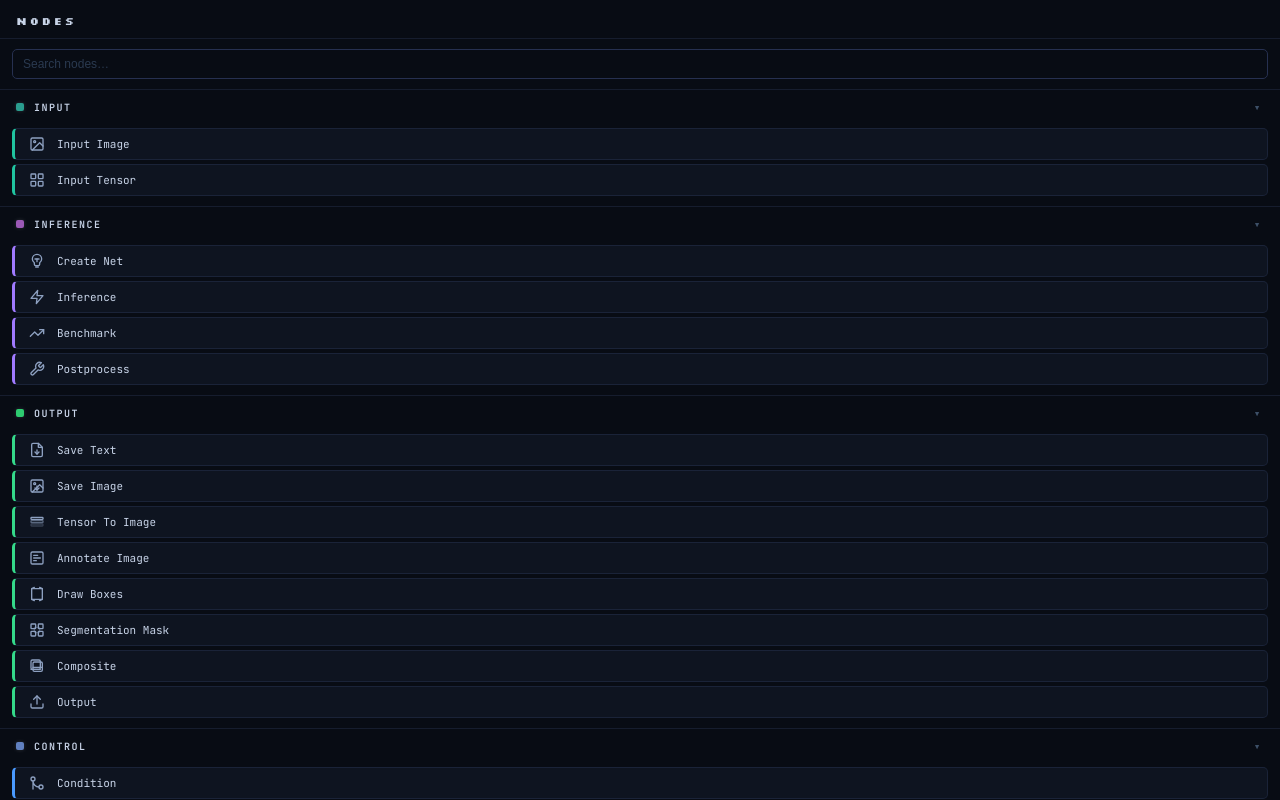
Test: NodePalette search › overrides collapsed categories while a search is active so hits are never hidden
The image size is (1280, 800).
Click the element showing "INPUT ▾" at (53, 107), box [16,100,1260,114]
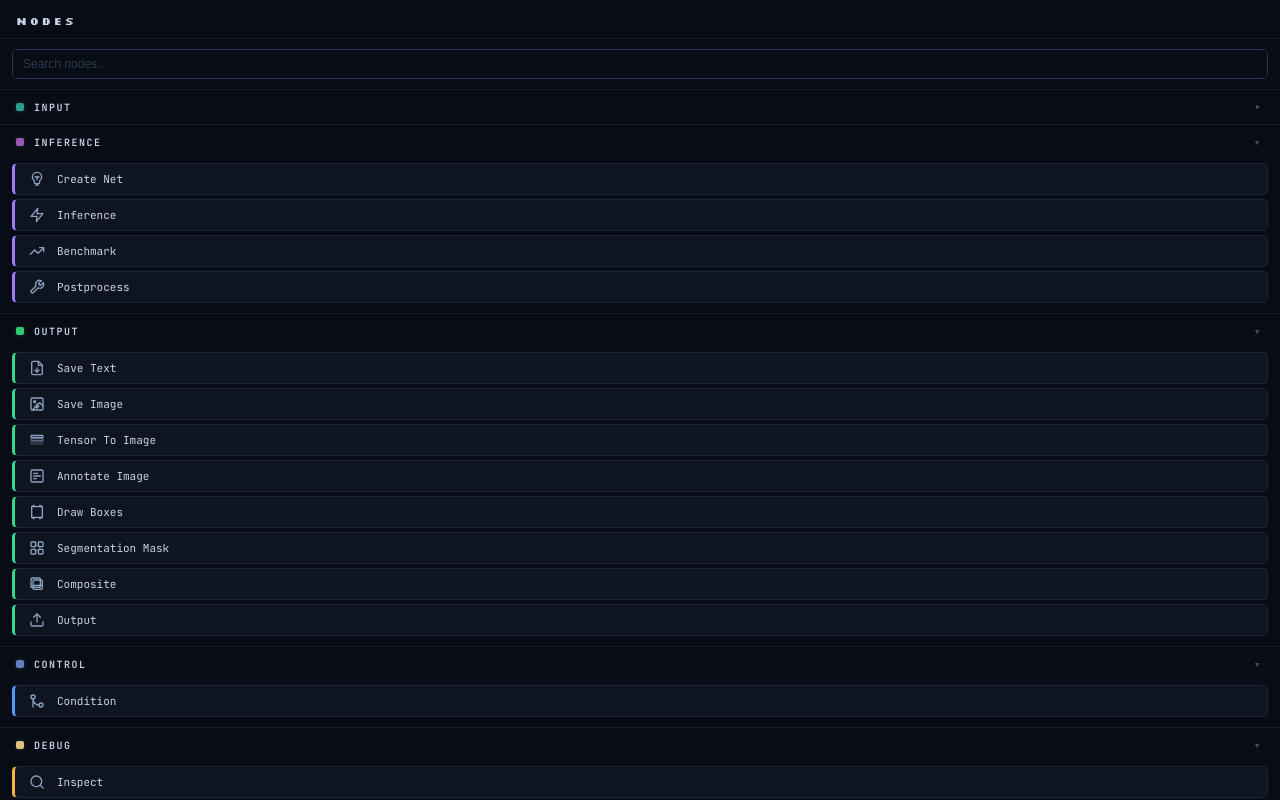
Click the element showing "INFERENCE ▾" at (68, 142), box [16,136,1260,148]
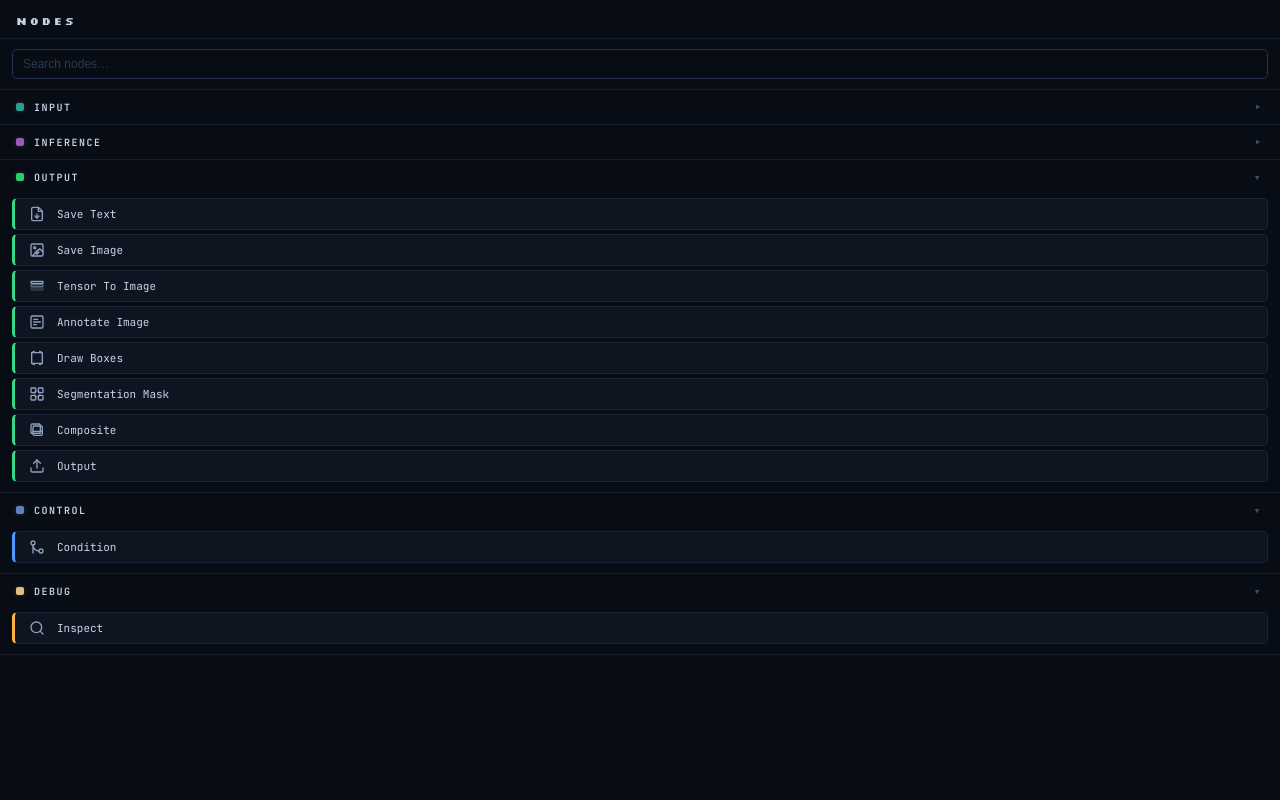
Click the element showing "OUTPUT ▾" at (56, 177), box [16,170,1260,184]
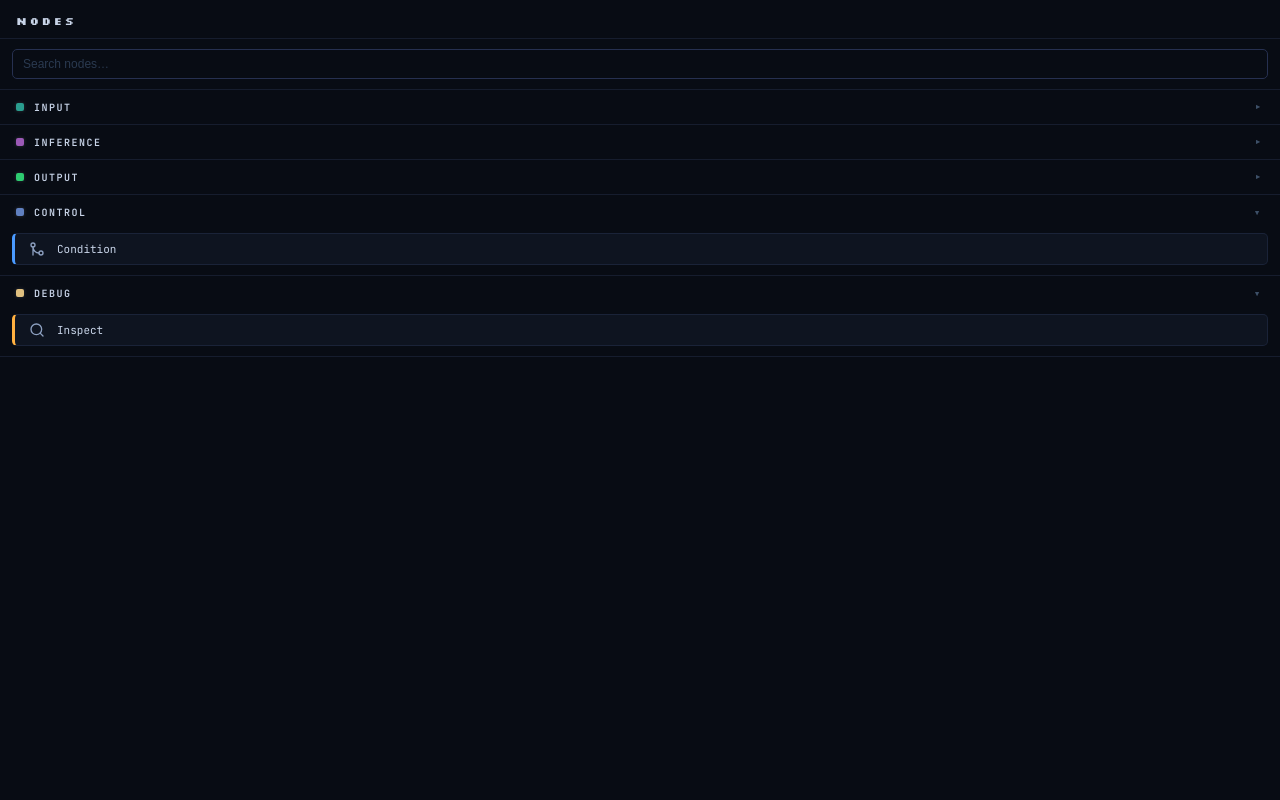
Click the element showing "CONTROL ▾" at (60, 212), box [16,206,1260,218]
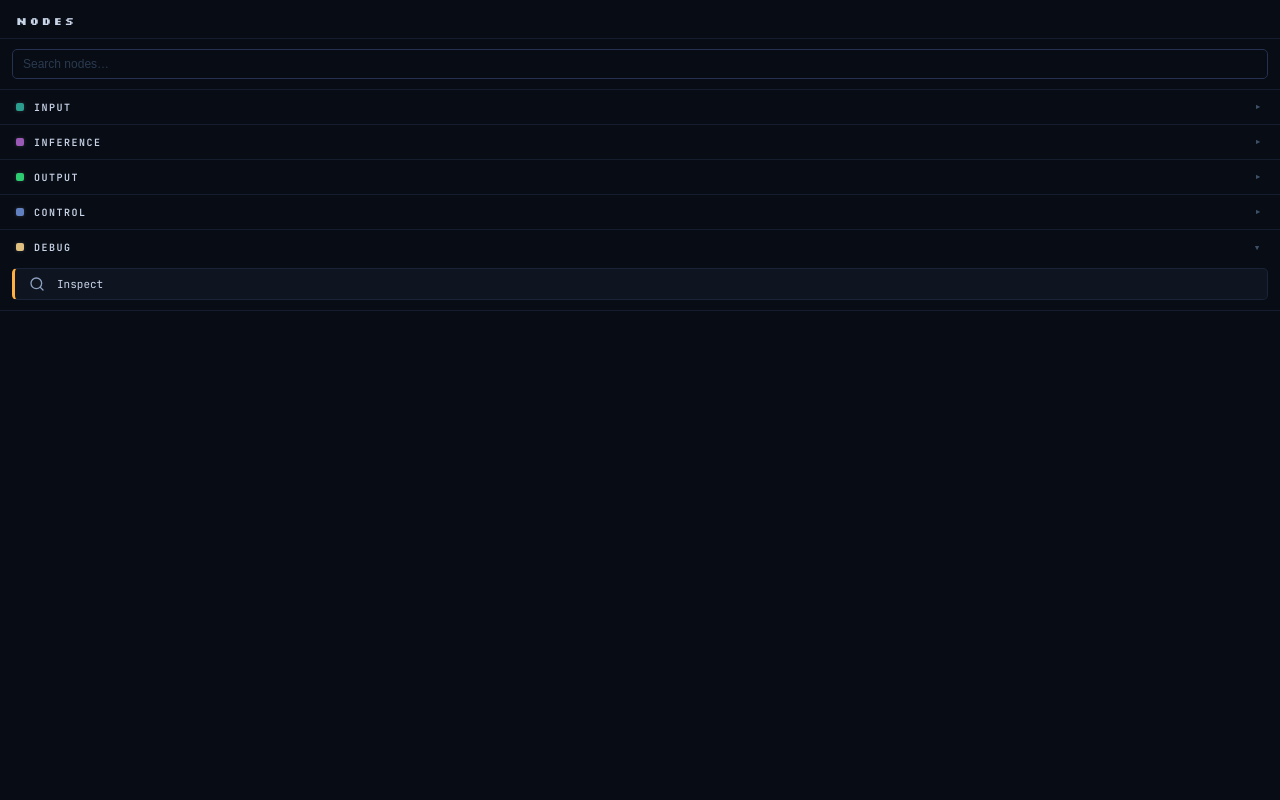
Click the element showing "DEBUG ▾" at (53, 247), box [16,240,1260,254]
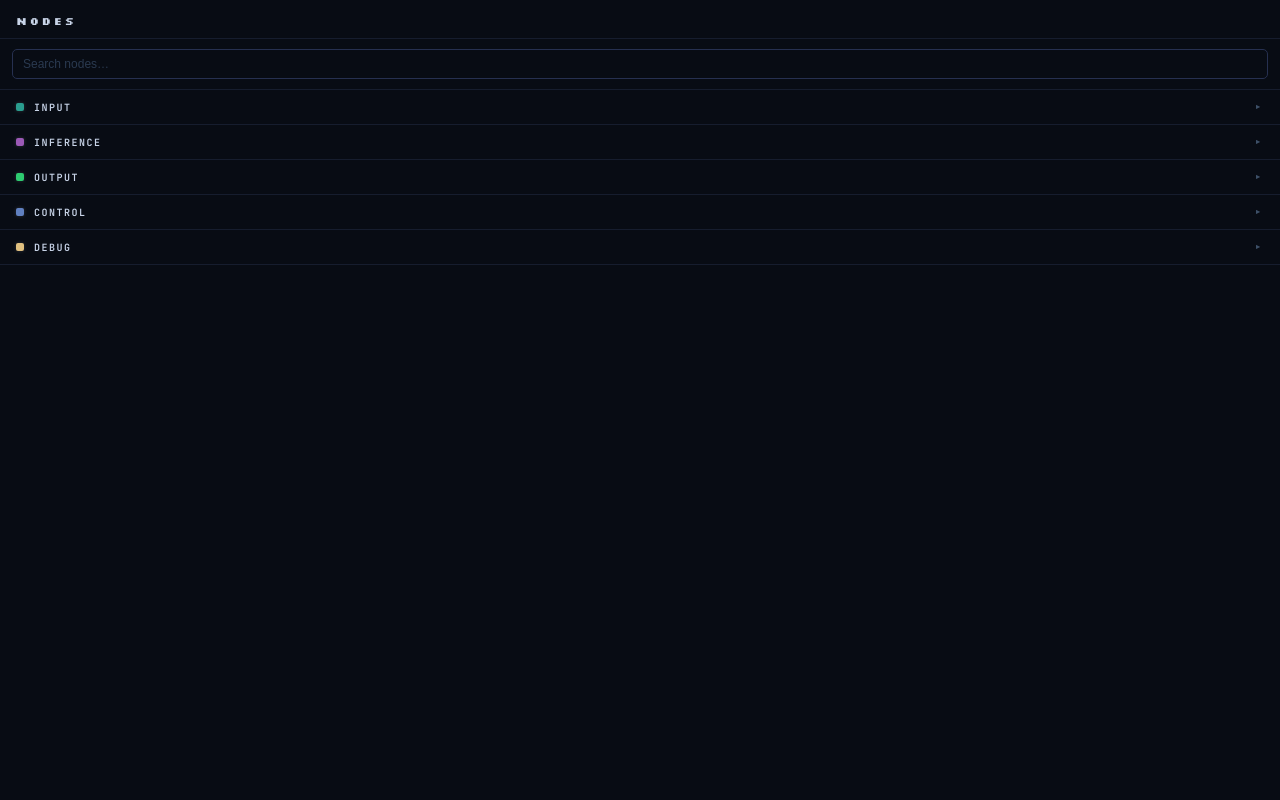
Type "Input Image" into the field labelled "Search nodes" at (640, 64), box [12,49,1268,79]
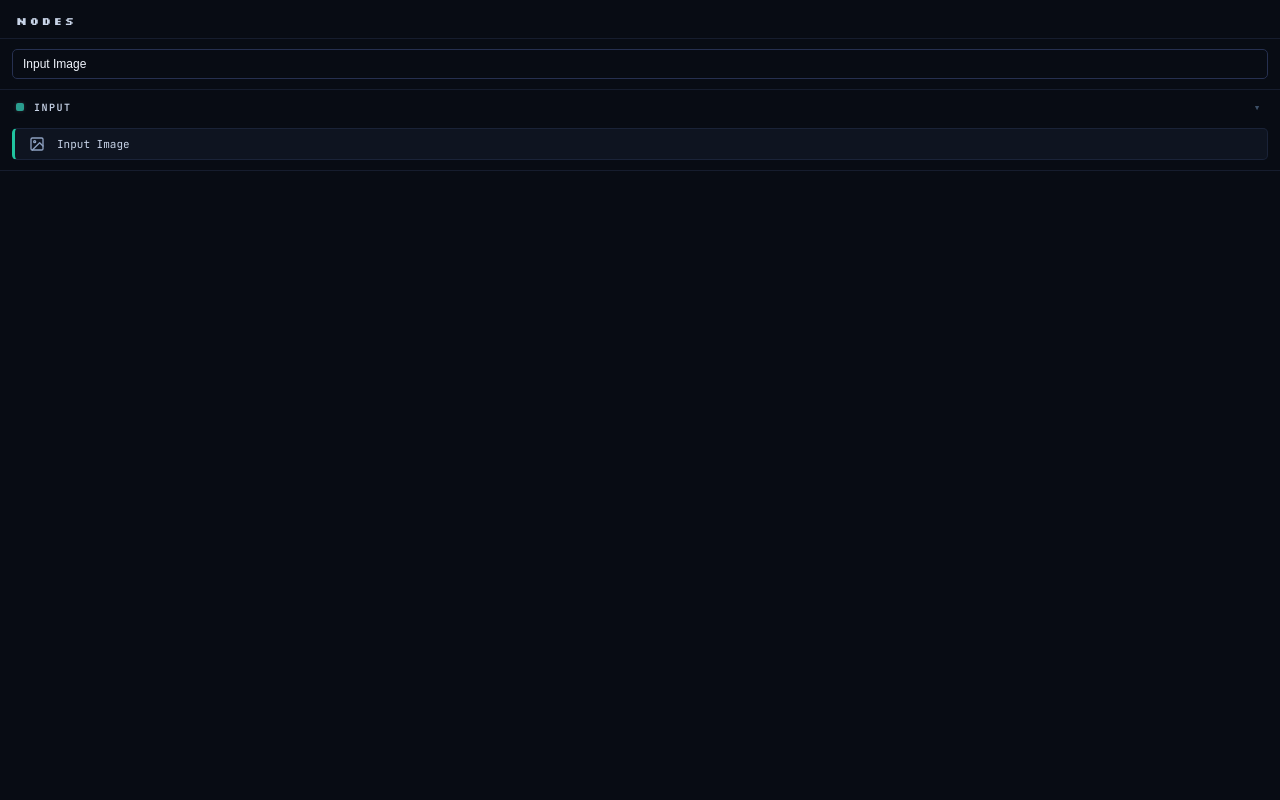
Now the text "Input Image" is shown, box [57,137,130,151]
